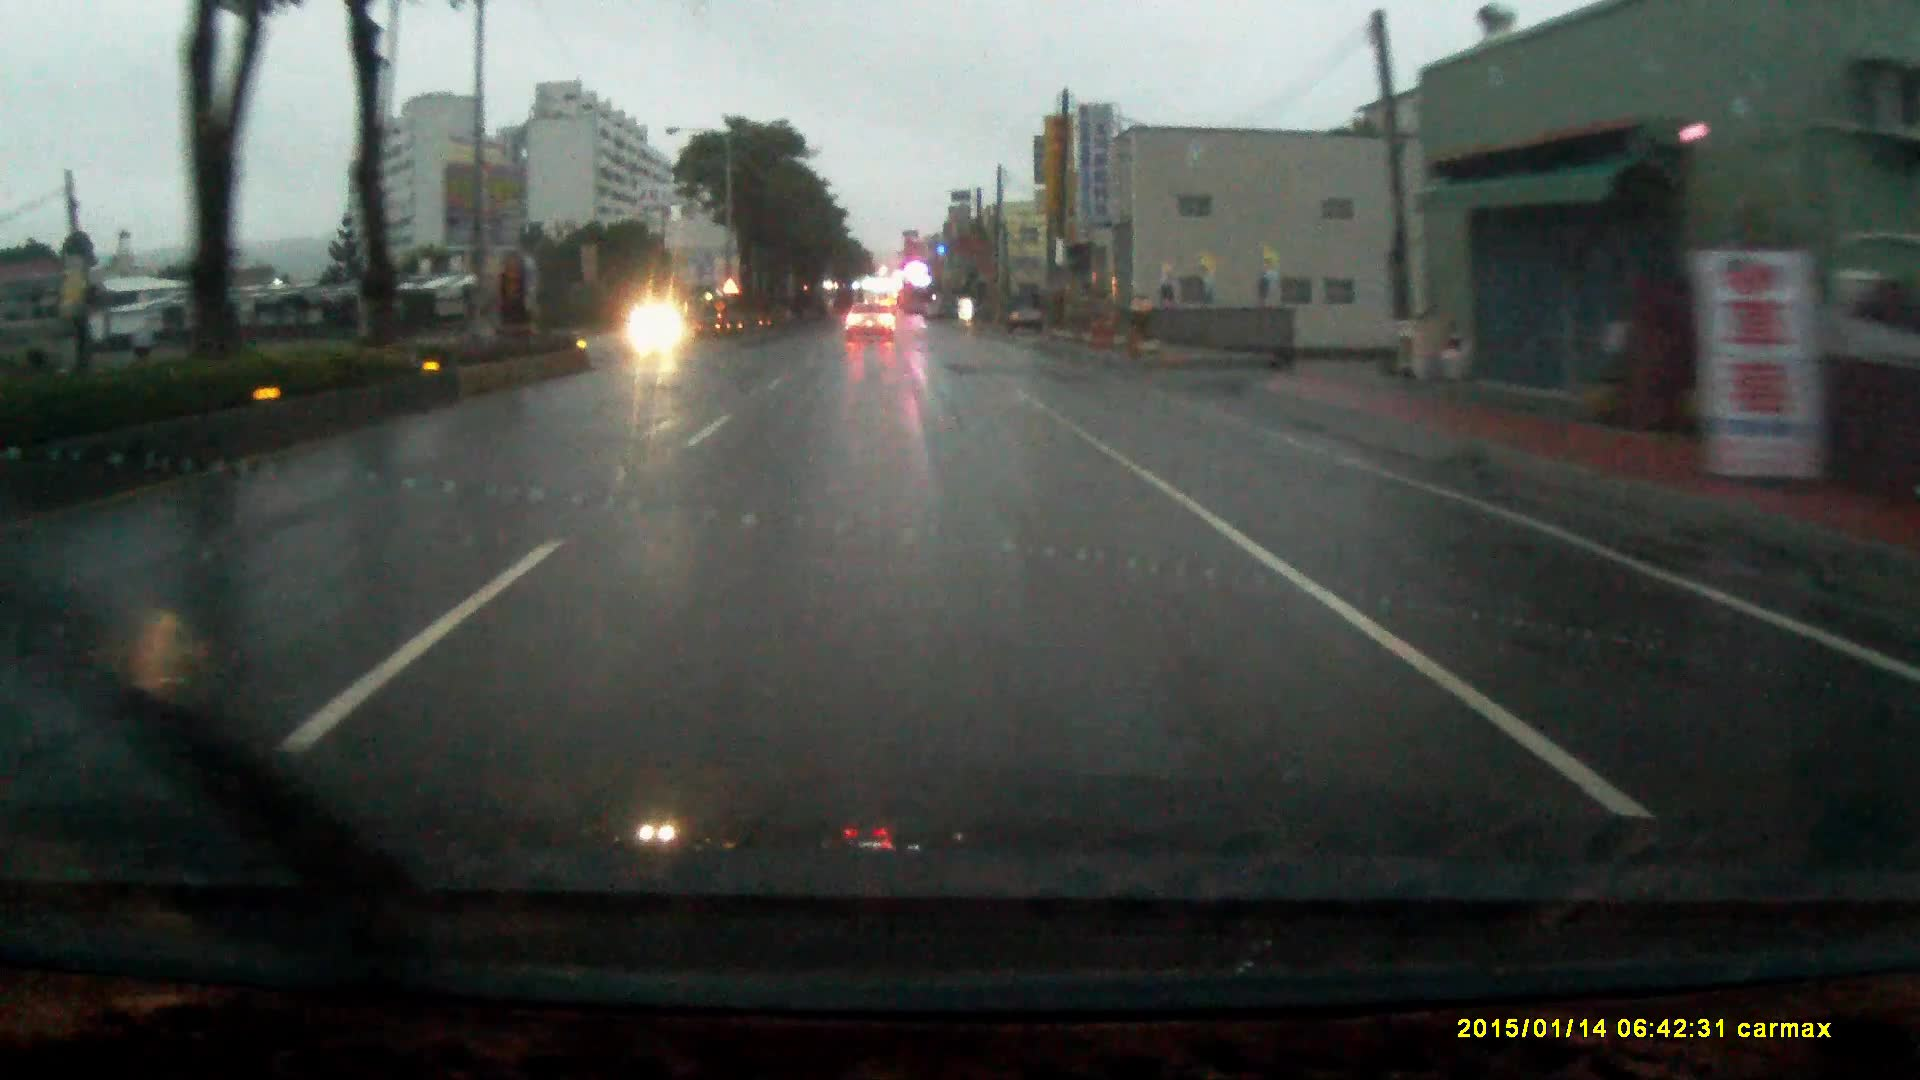vehicle: (847, 307, 899, 348), (1011, 284, 1047, 327)
